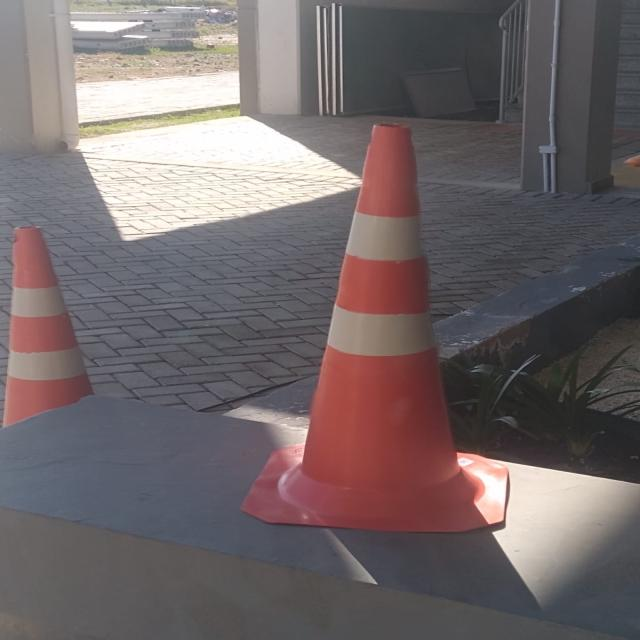cone: (239, 120, 511, 533), (0, 223, 98, 433)
